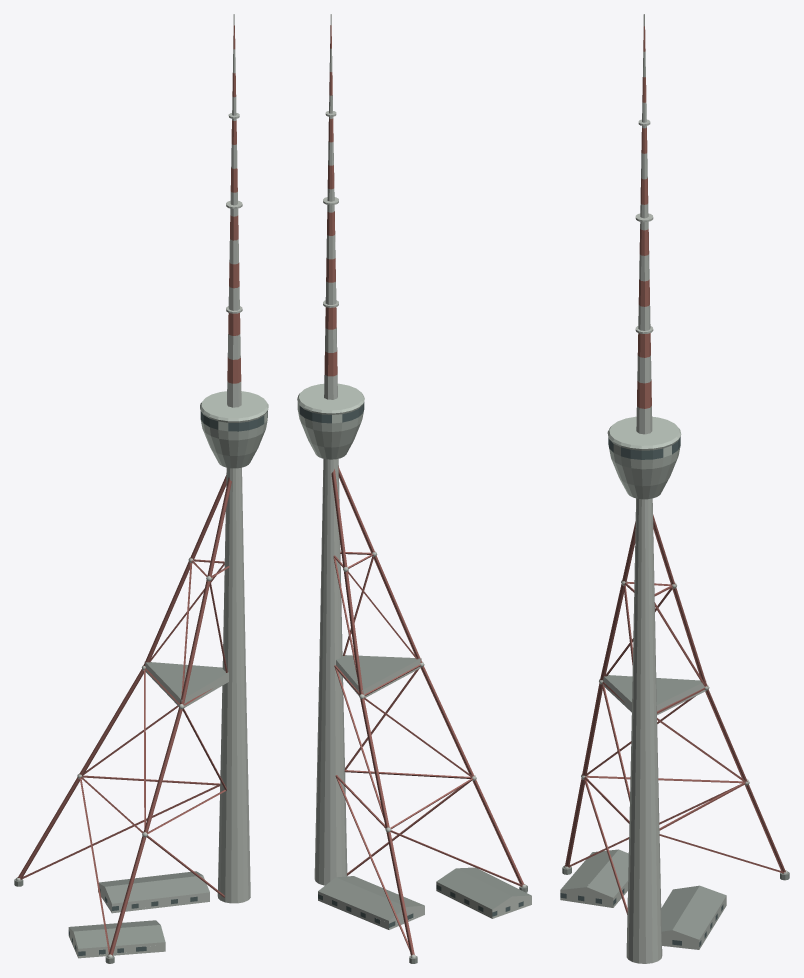
The model's file is tbilisi-tv-tower-far.glb.
3 views of the same model, side by side, from view 1: azimuth 30°, elevation 25°; view 2: azimuth 150°, elevation 25°; view 3: azimuth 270°, elevation 25° (orthographic). The views are drawn at different scales.
Visible parts, largest first — view 1: tbilisi-tv-tower-0-white, tbilisi-tv-tower-0-roof, tbilisi-tv-tower-0-leg, tbilisi-tv-tower-0-brace, tbilisi-tv-tower-0-lamp, tbilisi-tv-tower-0-red, tbilisi-tv-tower-0-glass; view 2: tbilisi-tv-tower-0-white, tbilisi-tv-tower-0-roof, tbilisi-tv-tower-0-leg, tbilisi-tv-tower-0-brace, tbilisi-tv-tower-0-lamp, tbilisi-tv-tower-0-red, tbilisi-tv-tower-0-glass; view 3: tbilisi-tv-tower-0-white, tbilisi-tv-tower-0-roof, tbilisi-tv-tower-0-lamp, tbilisi-tv-tower-0-brace, tbilisi-tv-tower-0-leg, tbilisi-tv-tower-0-red, tbilisi-tv-tower-0-glass.
Boxes of the visible parts, x1=… form: tbilisi-tv-tower-0-white: x1=16, y1=14, x2=250, y2=958; tbilisi-tv-tower-0-roof: x1=14, y1=662, x2=228, y2=963; tbilisi-tv-tower-0-leg: x1=17, y1=475, x2=231, y2=955; tbilisi-tv-tower-0-brace: x1=21, y1=559, x2=229, y2=953; tbilisi-tv-tower-0-lamp: x1=200, y1=391, x2=268, y2=468; tbilisi-tv-tower-0-red: x1=227, y1=25, x2=241, y2=383; tbilisi-tv-tower-0-glass: x1=68, y1=411, x2=267, y2=955; tbilisi-tv-tower-0-white: x1=314, y1=14, x2=531, y2=958; tbilisi-tv-tower-0-roof: x1=318, y1=655, x2=531, y2=963; tbilisi-tv-tower-0-leg: x1=331, y1=466, x2=524, y2=955; tbilisi-tv-tower-0-brace: x1=333, y1=552, x2=522, y2=950; tbilisi-tv-tower-0-lamp: x1=297, y1=383, x2=364, y2=459; tbilisi-tv-tower-0-red: x1=324, y1=25, x2=337, y2=376; tbilisi-tv-tower-0-glass: x1=299, y1=402, x2=523, y2=927; tbilisi-tv-tower-0-white: x1=560, y1=14, x2=787, y2=963; tbilisi-tv-tower-0-roof: x1=560, y1=675, x2=789, y2=939; tbilisi-tv-tower-0-lamp: x1=607, y1=416, x2=681, y2=499; tbilisi-tv-tower-0-brace: x1=569, y1=581, x2=783, y2=914; tbilisi-tv-tower-0-leg: x1=565, y1=514, x2=785, y2=872; tbilisi-tv-tower-0-red: x1=637, y1=26, x2=651, y2=408; tbilisi-tv-tower-0-glass: x1=560, y1=437, x2=723, y2=946.
Bounding box in the file's own units: 69.38 × 278 × 61.32.
